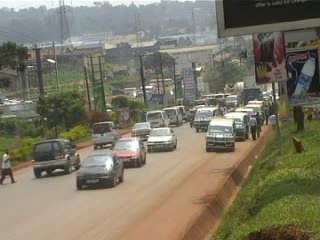Car: (24, 138, 81, 179), (74, 151, 124, 189), (111, 136, 147, 168), (145, 126, 180, 153), (128, 120, 155, 140)
Motorcycle: (186, 109, 196, 128)
